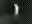person: (14, 4, 21, 18)
